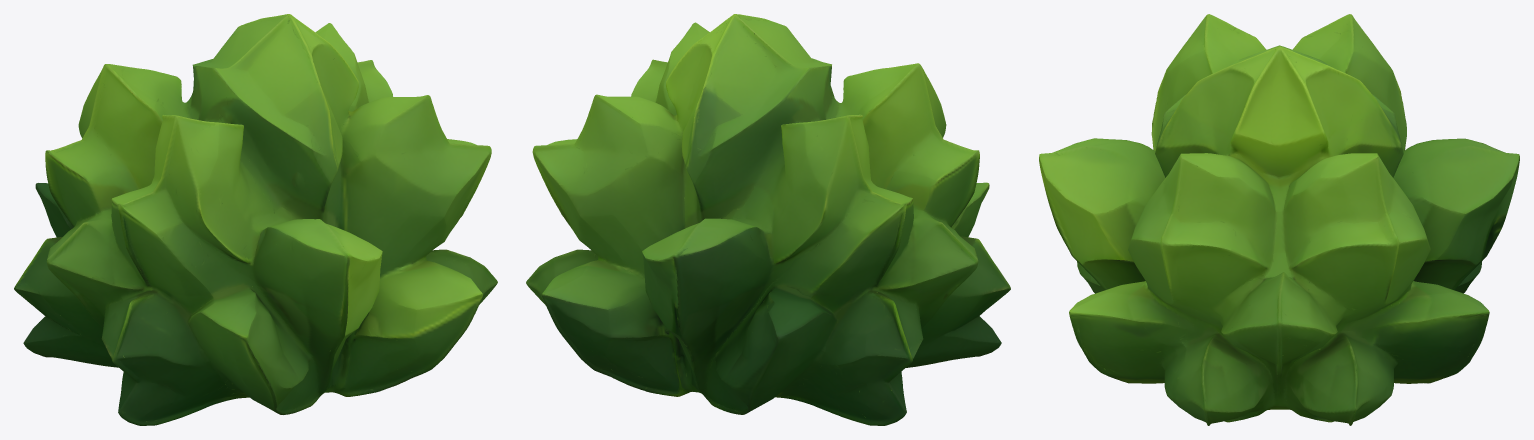
Rendered from base_basic_shaded.fbx.
The picture shows the model from 3 angles, left to right: view 1: azimuth 30°, elevation 25°; view 2: azimuth 150°, elevation 25°; view 3: azimuth 270°, elevation 25°; orthographic projection.
Parts seen in each view (by area): view 1: geometry_0; view 2: geometry_0; view 3: geometry_0.
Boxes of the visible parts, bbox=[...] form: geometry_0: bbox=[14, 14, 497, 425]; geometry_0: bbox=[526, 14, 1010, 425]; geometry_0: bbox=[1039, 14, 1519, 425].
Size of the model in its own units: 190 by 140 by 183.
